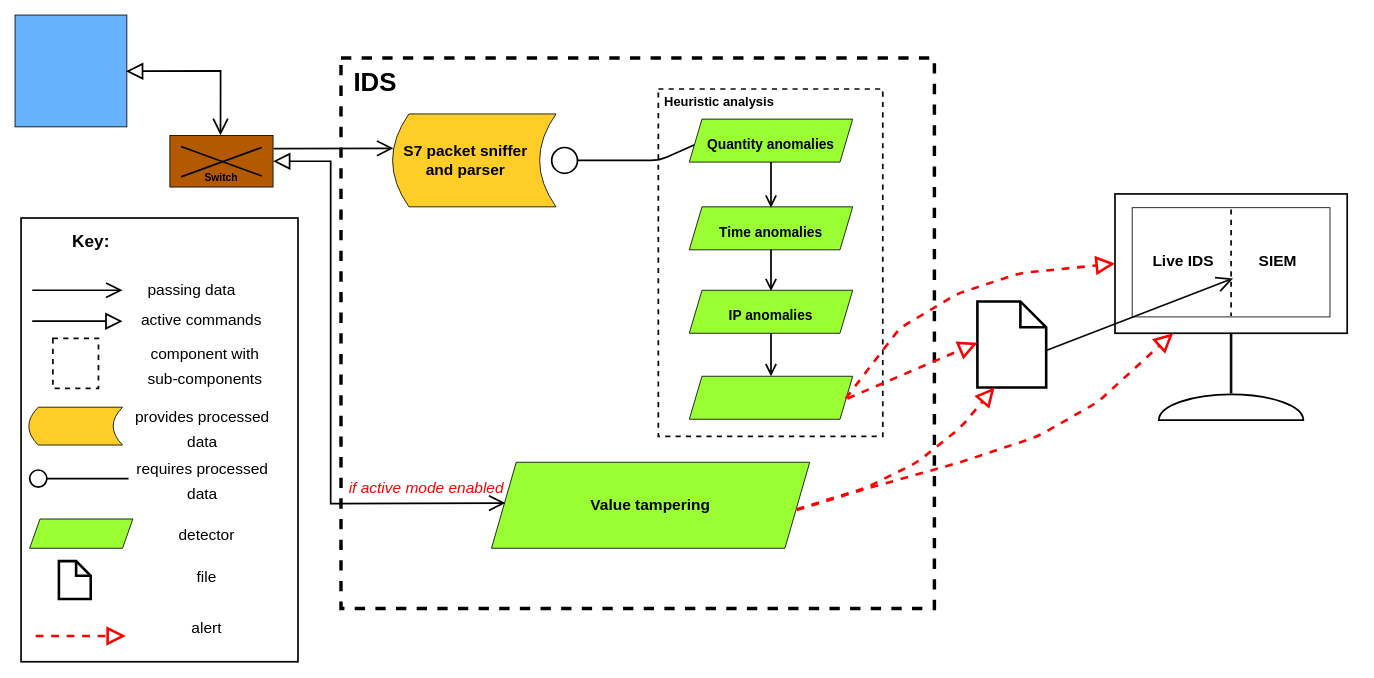
Some shapes in this 1374 by 678 pixel diagram are drawn without their labels. Each missing label, with the centre of its shape:
logfile: the point at 1011,344
Logic code uploads: the point at 770,397
Testbed: the point at 70,70
